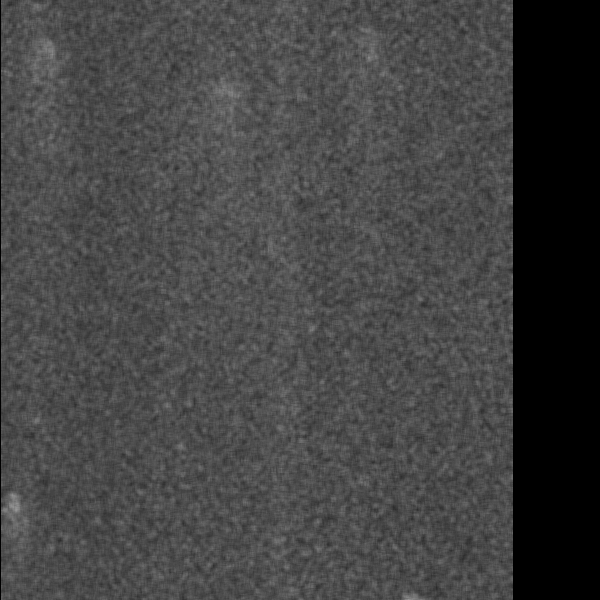spark: (199, 78, 244, 189), (357, 24, 390, 132), (34, 35, 61, 135), (1, 485, 28, 542)
